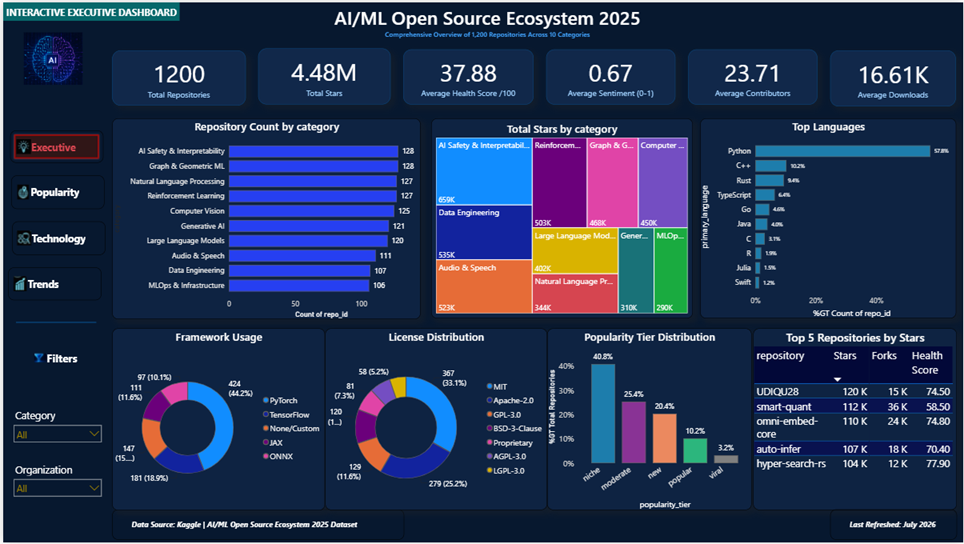

The page's visual inventory and layout, read from the dashboard file:
{"tool":"powerbi","page":{"name":"01. Executive","canvas":[1920,1080],"ordinal":0},"visuals":[{"type":"textbox","box":[593.6,0,749.2,112.2],"z":0},{"type":"card","fields":{"Values":["My Measures.Total Repositories"]},"box":[219,95.3,267.5,110.3],"z":0,"group":"g1"},{"type":"actionButton","box":[13.1,256.1,186.1,64.9],"z":0},{"type":"image","box":[25.3,59.7,148.4,105],"z":1000},{"type":"card","fields":{"Values":["My Measures.Total Stars"]},"box":[511.6,92.3,265.2,112.2],"z":1000,"group":"g1"},{"type":"actionButton","box":[15.4,345.8,186.1,67.1],"z":1000},{"type":"textbox","box":[0,0,352.8,36.8],"z":2000},{"type":"card","fields":{"Values":["My Measures.Average Health"]},"box":[801.9,95,260.6,110.3],"z":2000,"group":"g1"},{"type":"actionButton","box":[17.7,437.5,186.1,67.1],"z":2000},{"type":"card","fields":{"Values":["My Measures.Average Sentiment"]},"box":[1087.5,94.6,258.3,110.3],"z":3000,"group":"g1"},{"type":"actionButton","box":[10.8,529.3,186.1,65.8],"z":3000},{"type":"card","fields":{"Values":["My Measures.Average Contributors"]},"box":[1370.9,94.2,258.3,110.3],"z":4000,"group":"g1"},{"type":"shape","box":[26,627.6,160.1,23.8],"z":4000},{"type":"card","fields":{"Values":["My Measures.Average Downloads"]},"box":[1654.1,95.9,251.5,112.2],"z":5000,"group":"g1"},{"type":"actionButton","box":[10.8,675.2,190.4,69.3],"z":5000},{"type":"slicer","title":"Category","fields":{"Values":["Repositoties.category"]},"box":[15.1,811.6,186.1,90.9],"z":6000},{"type":"slicer","title":"Organization","fields":{"Values":["Repositoties.organization"]},"box":[15.1,919.8,186.1,71.4],"z":7000},{"type":"group","id":"g1","title":"Group 2","box":[219,92.3,1686.6,115.8],"z":9000},{"type":"actionButton","box":[218.6,1015,584.3,60.6],"z":10000},{"type":"clusteredBarChart","title":"Repository Count by category","fields":{"Category":["Fact_ai_ml_repos_2025.category"],"Y":["CountNonNull(Fact_ai_ml_repos_2025.repo_id)"]},"box":[219,231.6,617.1,401.7],"z":11000},{"type":"treemap","title":"Total Stars by category","fields":{"Group":["Fact_ai_ml_repos_2025.category"],"Values":["Sum(Fact_ai_ml_repos_2025.stars)"]},"box":[856,231.6,523,399.9],"z":12000},{"type":"clusteredBarChart","title":"Top Languages","fields":{"Category":["Fact_ai_ml_repos_2025.primary_language"],"Y":["CountNonNull(Fact_ai_ml_repos_2025.repo_id)"]},"box":[1393.4,231.6,512.1,399.9],"z":13000},{"type":"donutChart","title":"Framework Usage","fields":{"Category":["Repositoties.framework_dependency"],"Y":["My Measures.Total Repositories"]},"box":[219,651.5,425.3,363.7],"z":14000},{"type":"donutChart","title":"License Distribution","fields":{"Y":["My Measures.Total Repositories"],"Category":["Repositoties.license_type"]},"box":[644.9,651.4,443.6,363.6],"z":15000},{"type":"clusteredColumnChart","title":"Popularity Tier Distribution","fields":{"Category":["Repositoties.popularity_tier"],"Y":["My Measures.Total Repositories"]},"box":[1088.6,651.4,409,363.6],"z":16000},{"type":"tableEx","title":"Top 5 Repositories by Stars","fields":{"Values":["Repositoties.repo_name","Sum(Repositoties.stars)","Sum(Repositoties.forks)","My Measures.Average Health Score /100"]},"box":[1499.8,651.4,406.9,363.6],"z":17000},{"type":"actionButton","box":[1653.4,1015,253.2,60.6],"z":18000}]}

Visuals, with their boxes in screenshot pixels (x1, y1, x2, y2), scaled from the page's 1920x1080 canvas onto the 964x544 screenshot:
textbox: pyautogui.locateOnScreen(298, 0, 674, 57)
card - My Measures.Total Repositories: pyautogui.locateOnScreen(110, 48, 244, 104)
actionButton: pyautogui.locateOnScreen(7, 129, 100, 162)
image: pyautogui.locateOnScreen(13, 30, 87, 83)
card - My Measures.Total Stars: pyautogui.locateOnScreen(257, 46, 390, 103)
actionButton: pyautogui.locateOnScreen(8, 174, 101, 208)
textbox: pyautogui.locateOnScreen(0, 0, 177, 19)
card - My Measures.Average Health: pyautogui.locateOnScreen(403, 48, 533, 103)
actionButton: pyautogui.locateOnScreen(9, 220, 102, 254)
card - My Measures.Average Sentiment: pyautogui.locateOnScreen(546, 48, 676, 103)
actionButton: pyautogui.locateOnScreen(5, 267, 99, 300)
card - My Measures.Average Contributors: pyautogui.locateOnScreen(688, 47, 818, 103)
shape: pyautogui.locateOnScreen(13, 316, 93, 328)
card - My Measures.Average Downloads: pyautogui.locateOnScreen(830, 48, 957, 105)
actionButton: pyautogui.locateOnScreen(5, 340, 101, 375)
"Category" slicer: pyautogui.locateOnScreen(8, 409, 101, 455)
"Organization" slicer: pyautogui.locateOnScreen(8, 463, 101, 499)
"Group 2" group: pyautogui.locateOnScreen(110, 46, 957, 105)
actionButton: pyautogui.locateOnScreen(110, 511, 403, 542)
"Repository Count by category" clusteredBarChart: pyautogui.locateOnScreen(110, 117, 420, 319)
"Total Stars by category" treemap: pyautogui.locateOnScreen(430, 117, 692, 318)
"Top Languages" clusteredBarChart: pyautogui.locateOnScreen(700, 117, 957, 318)
"Framework Usage" donutChart: pyautogui.locateOnScreen(110, 328, 323, 511)
"License Distribution" donutChart: pyautogui.locateOnScreen(324, 328, 547, 511)
"Popularity Tier Distribution" clusteredColumnChart: pyautogui.locateOnScreen(547, 328, 752, 511)
"Top 5 Repositories by Stars" tableEx: pyautogui.locateOnScreen(753, 328, 957, 511)
actionButton: pyautogui.locateOnScreen(830, 511, 957, 542)
